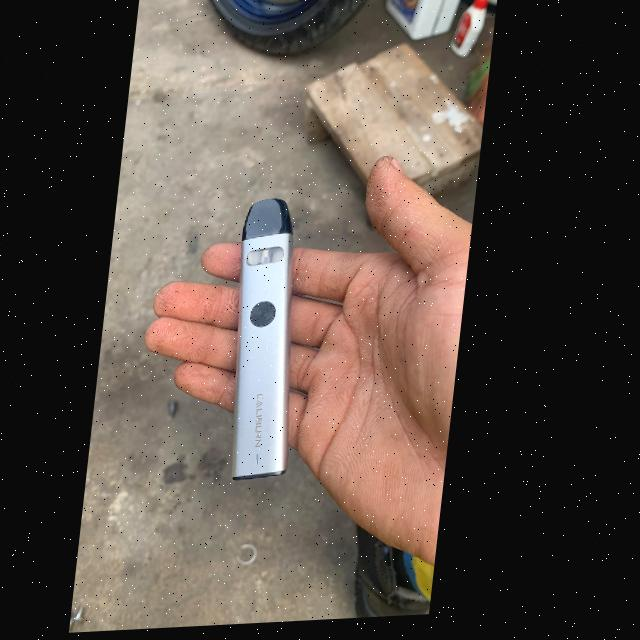vape: (224, 196, 317, 484)
